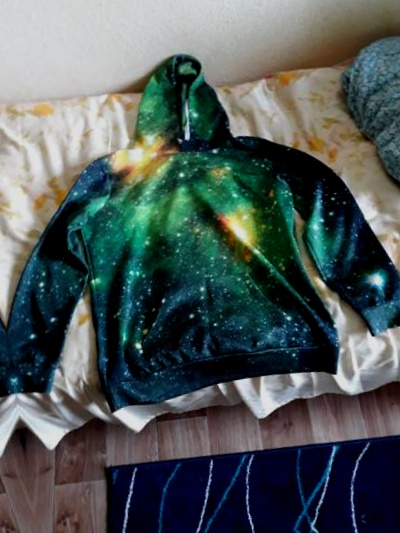Hoodie: (0, 21, 400, 451), (0, 81, 9, 511)
